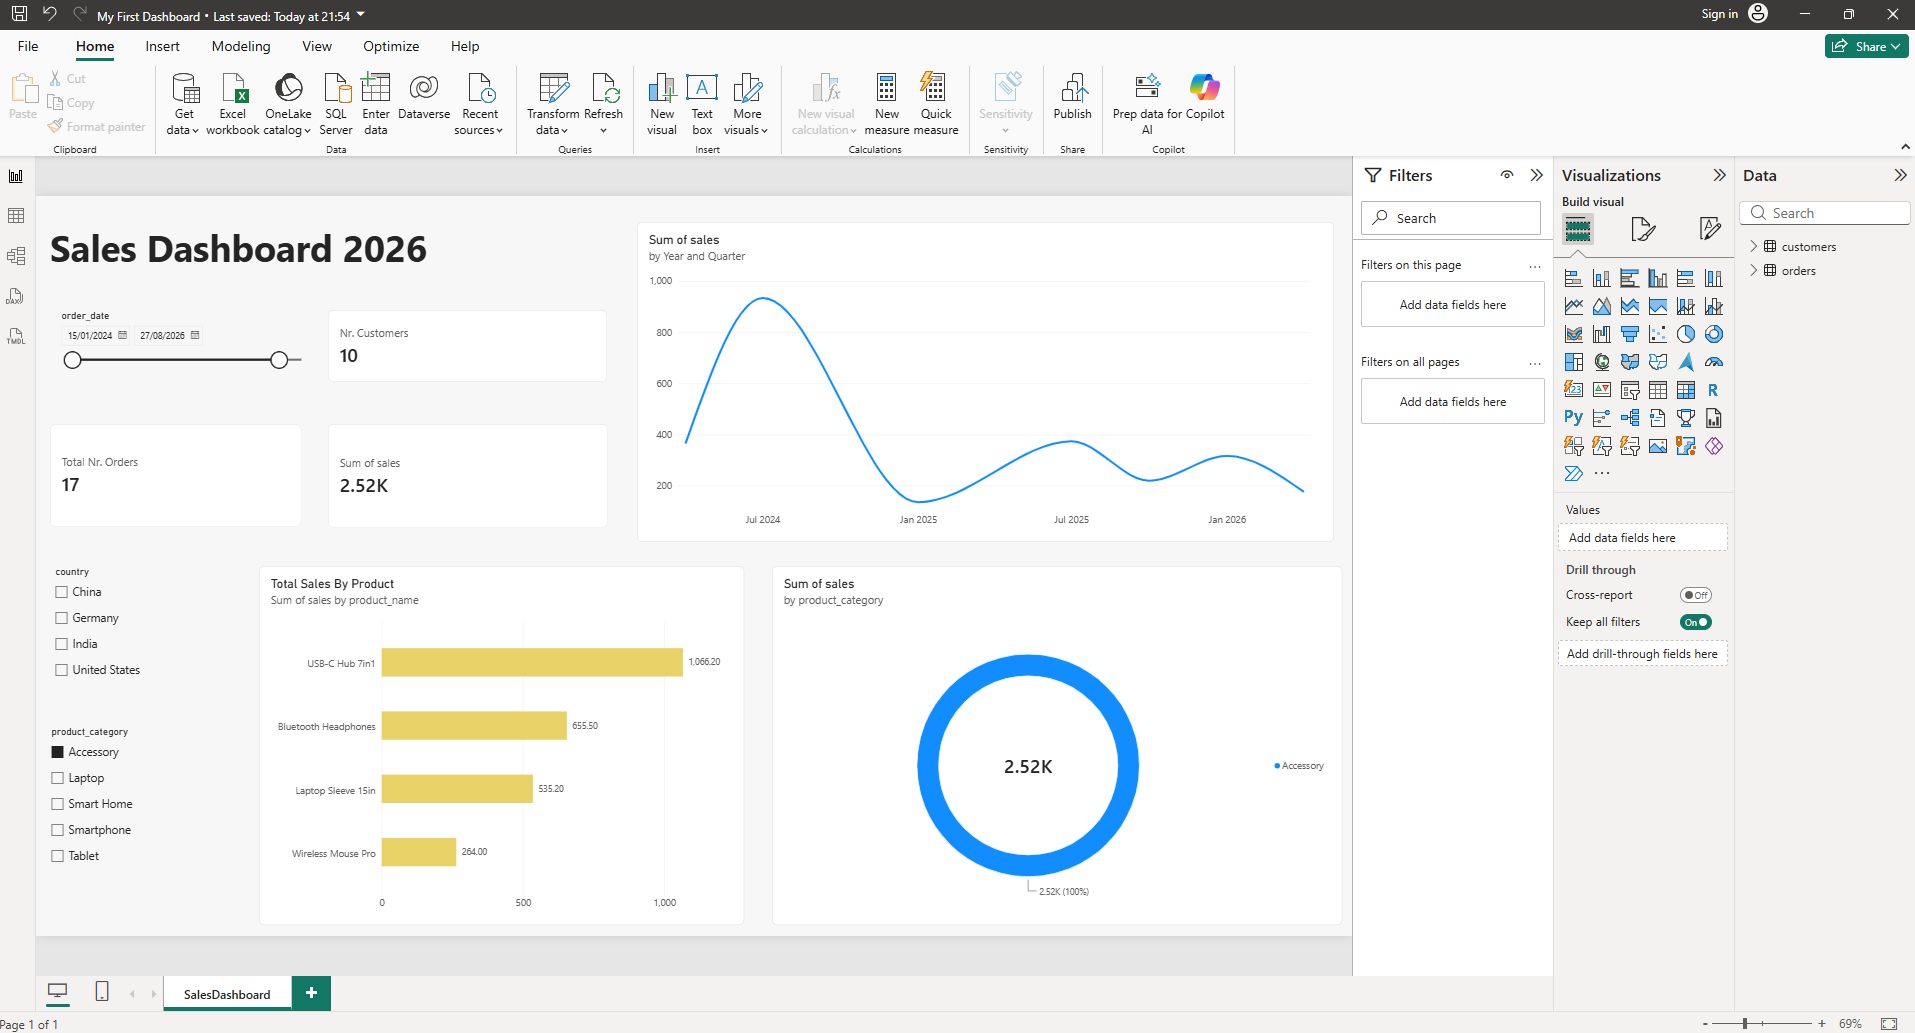

This screenshot's page, from the dashboard's own definition file:
{"tool":"powerbi","page":{"name":"SalesDashboard","canvas":[1920,1080],"ordinal":0},"visuals":[{"type":"barChart","title":"Total Sales By Product","fields":{"Category":["orders.product_name"],"Y":["Sum(orders.sales)"]},"box":[325.3,539.8,707.6,523.8],"z":0},{"type":"donutChart","fields":{"Category":["orders.product_category"],"Y":["Sum(orders.sales)"]},"box":[1073.8,539.8,831.6,523.8],"z":1000},{"type":"cardVisual","fields":{"Data":["Sum(orders.sales)"]},"box":[425.8,332.6,408.2,151.2],"z":2000},{"type":"cardVisual","fields":{"Data":["CountNonNull(orders.order_id)"]},"box":[20.2,332.6,367.7,150.3],"z":3000},{"type":"cardVisual","fields":{"Data":["Count(orders.customer_id)"]},"box":[426,166.3,407.1,105],"z":4000},{"type":"lineChart","fields":{"Category":["orders.order_date.Variation.Date Hierarchy.Year","orders.order_date.Variation.Date Hierarchy.Quarter","orders.order_date.Variation.Date Hierarchy.Month","orders.order_date.Variation.Date Hierarchy.Day"],"Y":["Sum(orders.sales)"]},"box":[876.8,37.9,1016.9,466.9],"z":5000},{"type":"slicer","fields":{"Values":["customers.country"]},"box":[20.4,539.8,283,192.6],"z":6000},{"type":"slicer","fields":{"Values":["orders.product_category"]},"box":[15.1,773.5,291.8,291.8],"z":7000},{"type":"slicer","fields":{"Values":["orders.order_date"]},"box":[29.2,166.3,376.4,166.3],"z":8000},{"type":"textbox","box":[20.4,37.9,812.6,93.4],"z":9000}]}

Visuals, with their boxes on the page's 1920x1080 design canvas (x1, y1, x2, y2). These are canvas units, not pixel positions in the 1915x1033 screenshot, which may show the page scaled, cropped or inside an application window:
"Total Sales By Product" barChart: box=[325, 540, 1033, 1064]
donutChart - orders.product_category x Sum(orders.sales): box=[1074, 540, 1905, 1064]
cardVisual - Sum(orders.sales): box=[426, 333, 834, 484]
cardVisual - CountNonNull(orders.order_id): box=[20, 333, 388, 483]
cardVisual - Count(orders.customer_id): box=[426, 166, 833, 271]
lineChart - orders.order_date.Variation.Date Hierarchy.Year x orders.order_date.Variation.Date Hierarchy.Quarter: box=[877, 38, 1894, 505]
slicer - customers.country: box=[20, 540, 303, 732]
slicer - orders.product_category: box=[15, 774, 307, 1065]
slicer - orders.order_date: box=[29, 166, 406, 333]
textbox: box=[20, 38, 833, 131]
